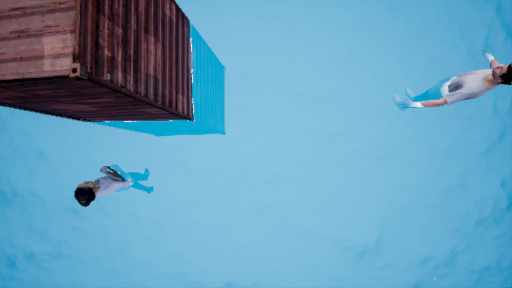person: (404, 42, 512, 122), (78, 161, 164, 210)
